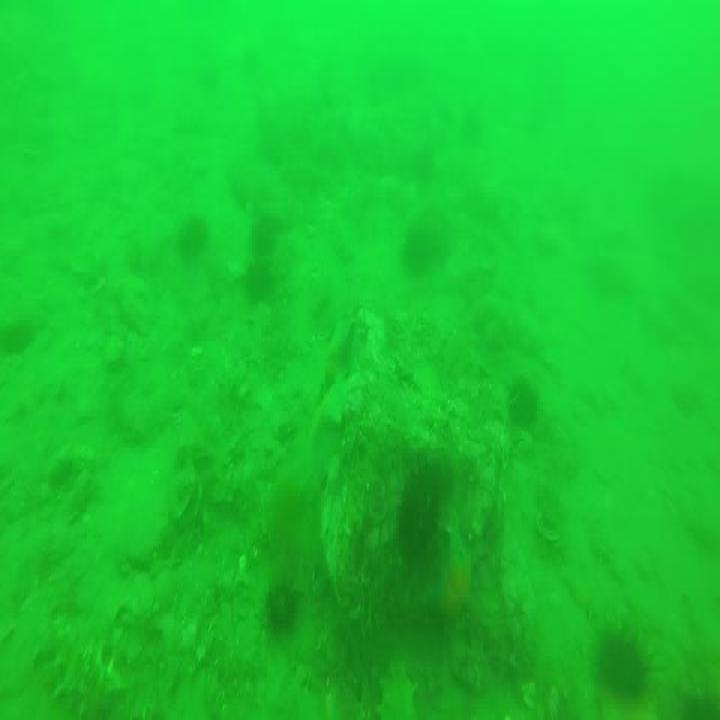echinus: (593, 625, 655, 698), (403, 464, 440, 567), (402, 219, 448, 268), (264, 576, 301, 629), (506, 375, 536, 436), (179, 219, 211, 265), (250, 219, 274, 254), (245, 268, 269, 300)
holothurian: (39, 620, 119, 720), (373, 656, 422, 720)
